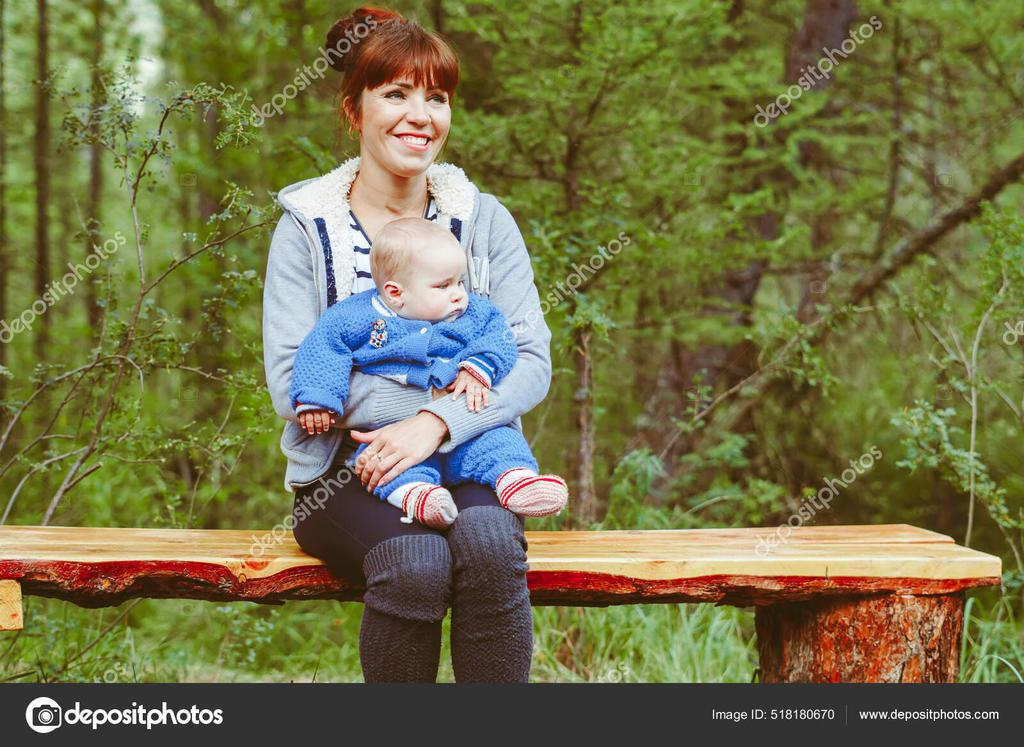child: (278, 216, 570, 529)
